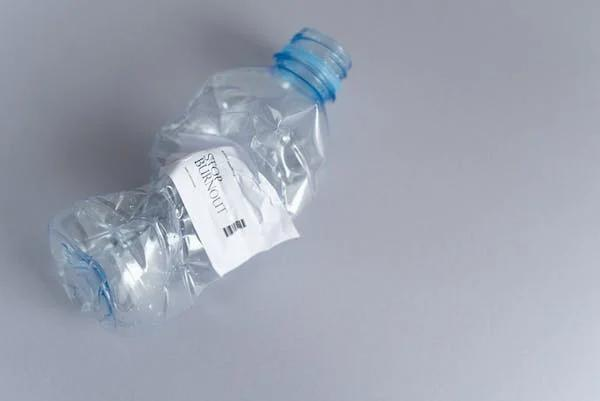Plastic: (42, 19, 357, 343)
